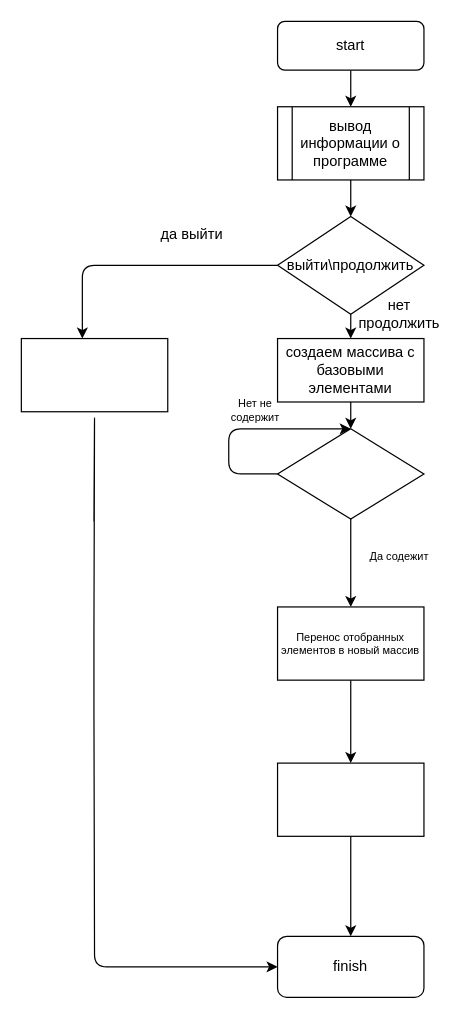
This 461x1019 diagram has some shape labels left out. The shapes that lost their labels are listed below. From the top down, each one's centre as x and y in pixels, then its label:
At point (94, 374): "сообщение о выходе".
At point (350, 473): "содержит эл. до 3 символов\ не содержит".
At point (350, 799): "вывод полученной информации".
